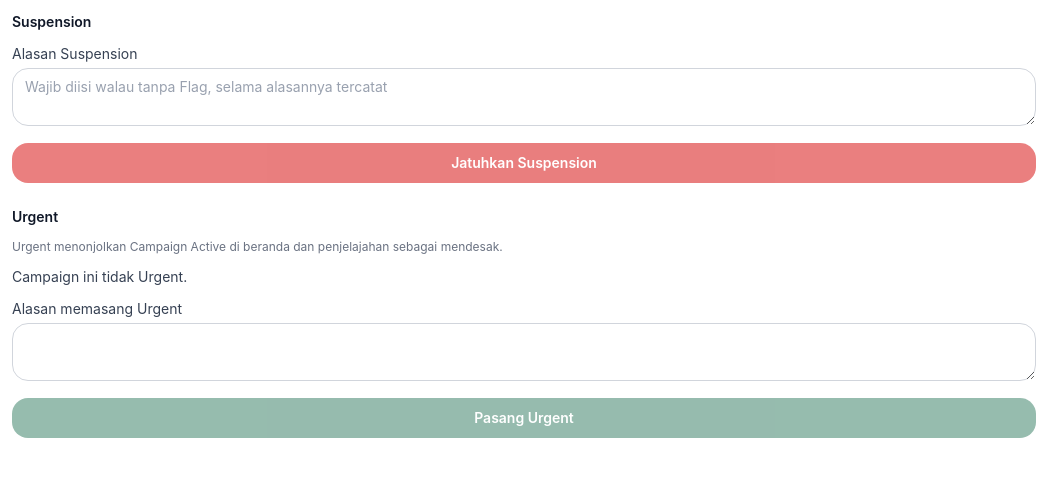
Test: AdminCampaignLifecycleActions -- Urgent › confirms the change and empties the reason
In the text box labelled "Alasan memasang Urgent": (524, 352) top-left (12, 323), bottom-right (1036, 381), type "Mendesak."
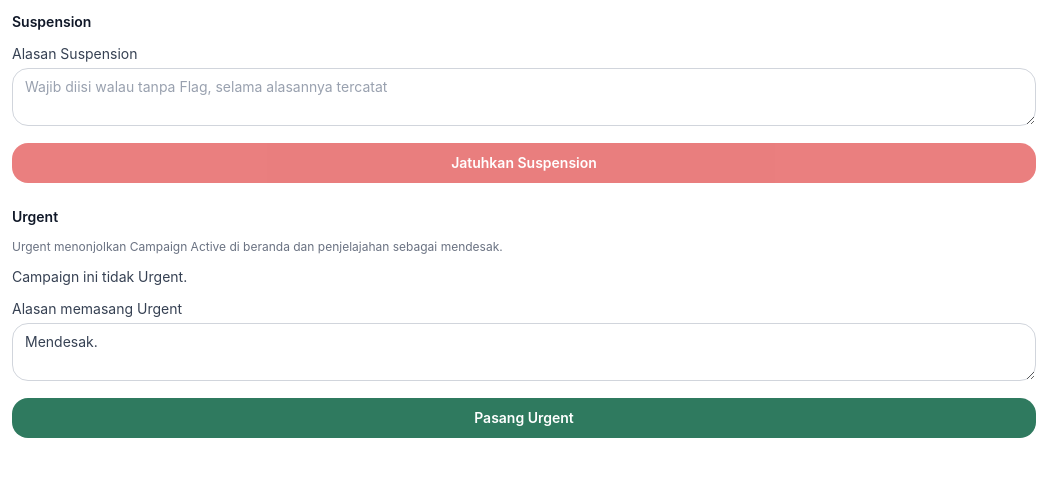
Click the button "Pasang Urgent": (524, 418) top-left (12, 398), bottom-right (1036, 438)
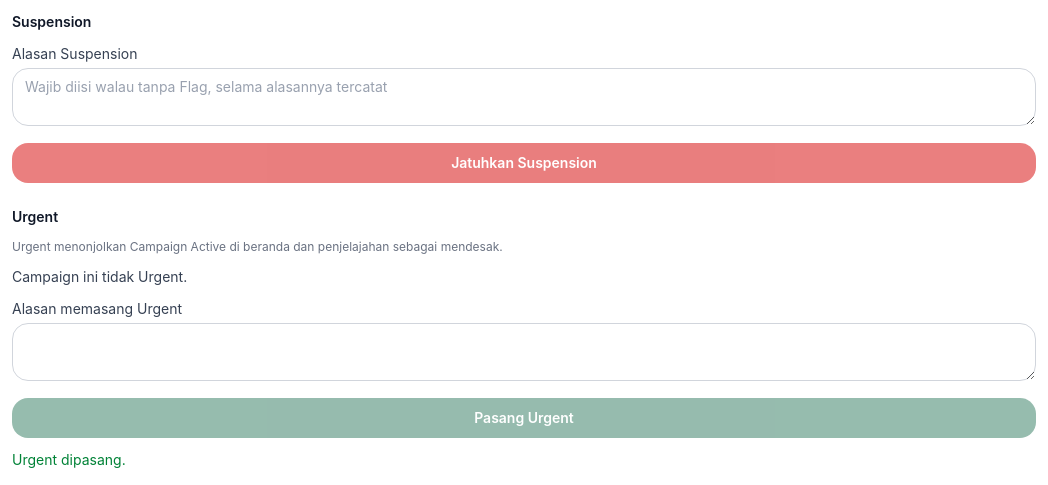
Check: the message reads "Urgent dipasang.", box top-left (12, 451), bottom-right (126, 468)
Check: the text box labelled "Alasan memasang Urgent" is empty, box top-left (12, 323), bottom-right (1036, 381)
